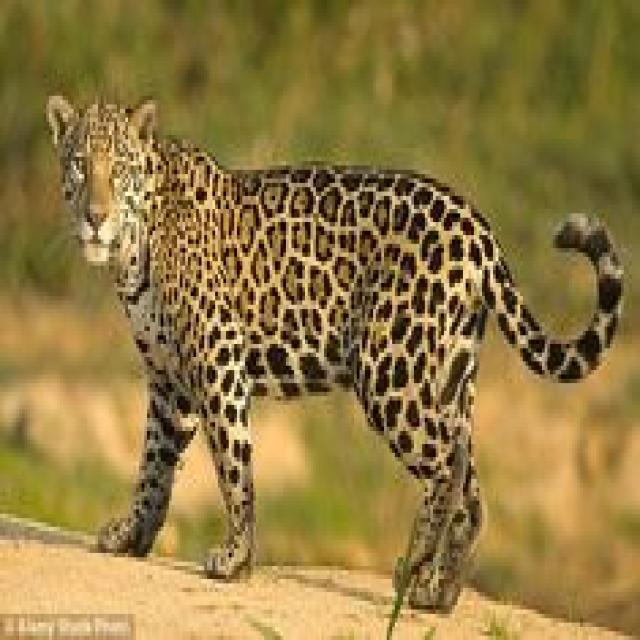Carnivorous: (44, 96, 624, 618)
